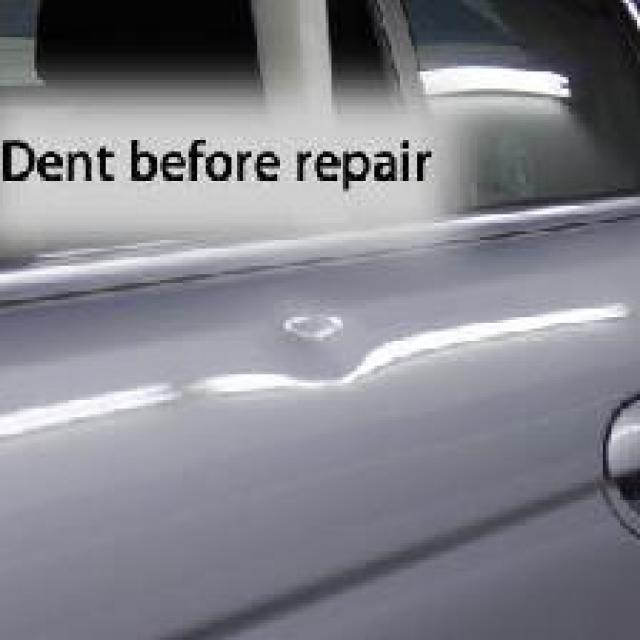damaged: (258, 308, 406, 408)
